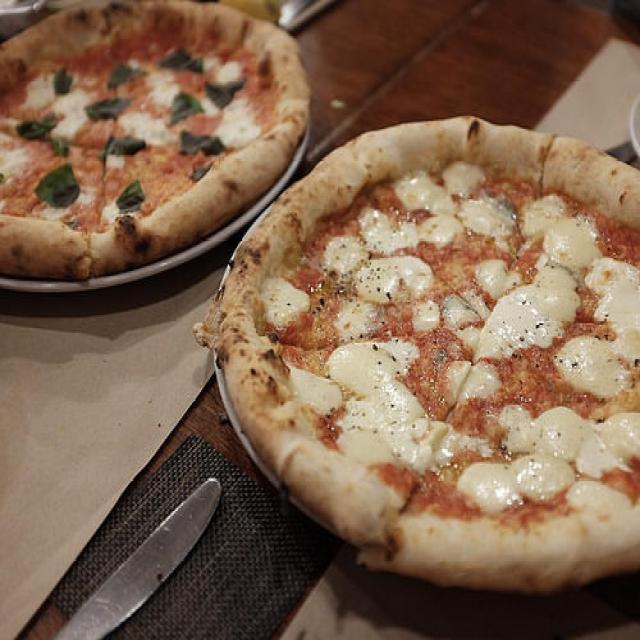Wet Waste: (205, 108, 640, 603), (0, 0, 316, 284)
